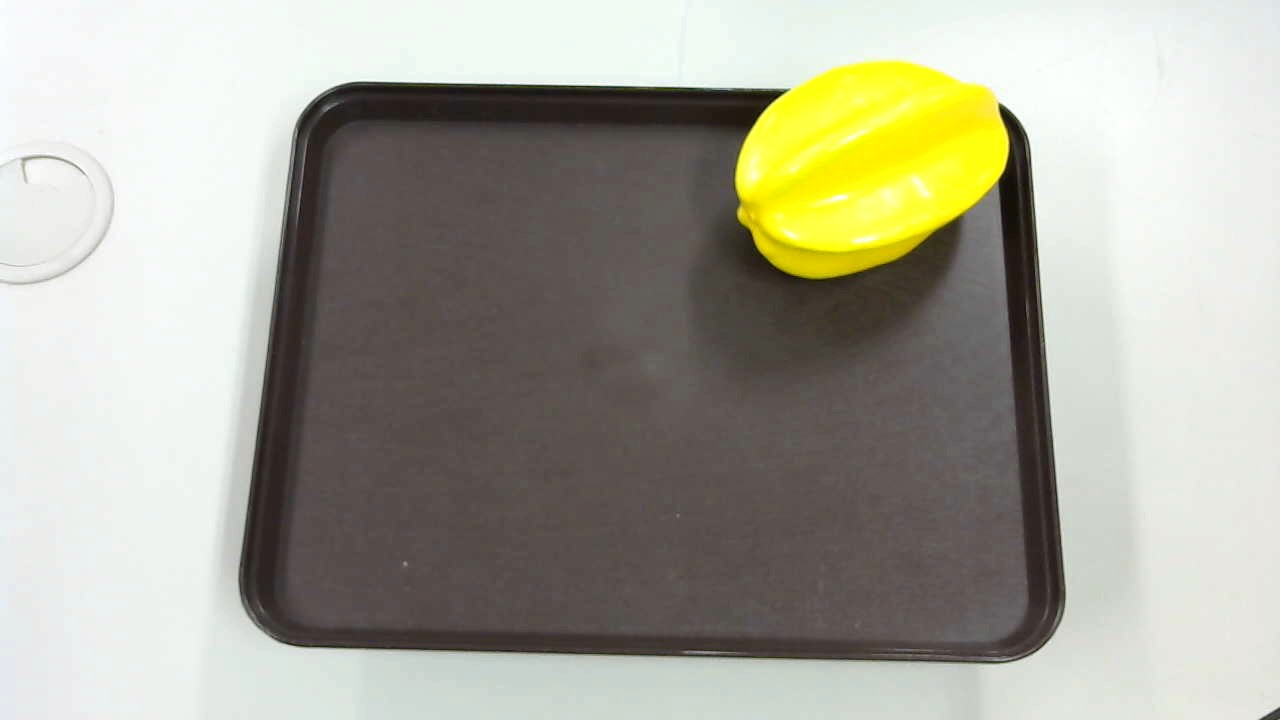star fruit: (732, 52, 1010, 278)
